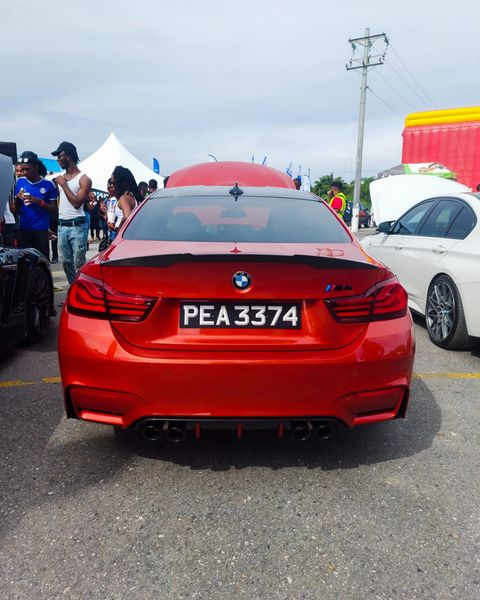License-Plate: (180, 302, 299, 327)
